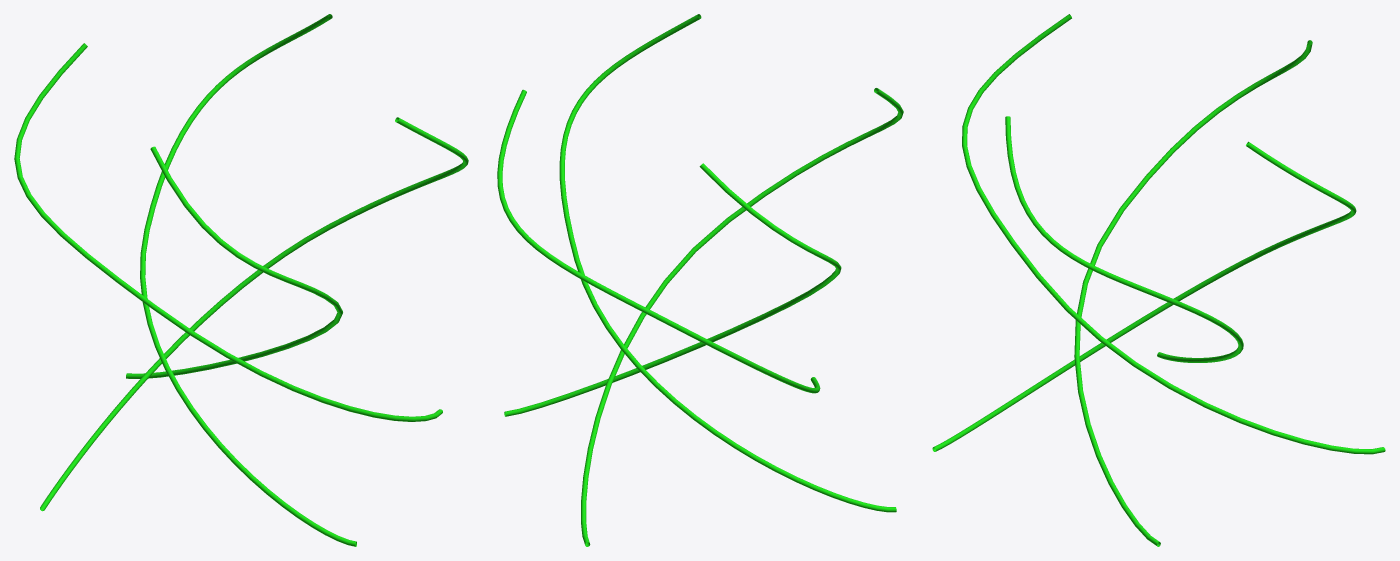
The model's file is SpecialFlowerVines.fbx.
The picture shows the model from 3 angles, left to right: view 1: azimuth 30°, elevation 25°; view 2: azimuth 150°, elevation 25°; view 3: azimuth 270°, elevation 25°; orthographic projection. The views are drawn at different scales.
Parts seen in each view (by area): view 1: SpecialFlowerVines; view 2: SpecialFlowerVines; view 3: SpecialFlowerVines.
Boxes of the visible parts, box(x1,y1,x2,y2) form: SpecialFlowerVines: box(14, 14, 468, 546); SpecialFlowerVines: box(497, 14, 903, 546); SpecialFlowerVines: box(932, 14, 1385, 546).
Bounding box in the file's own units: 340 × 340 × 309.
